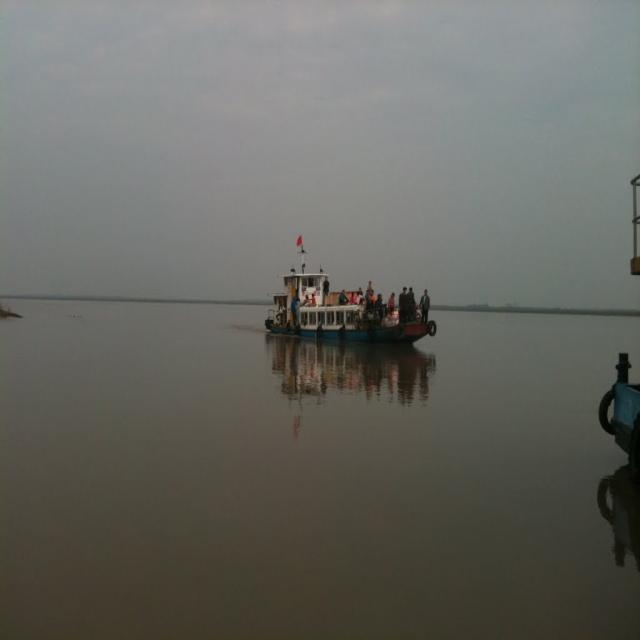fishing boat: (264, 258, 440, 347)
